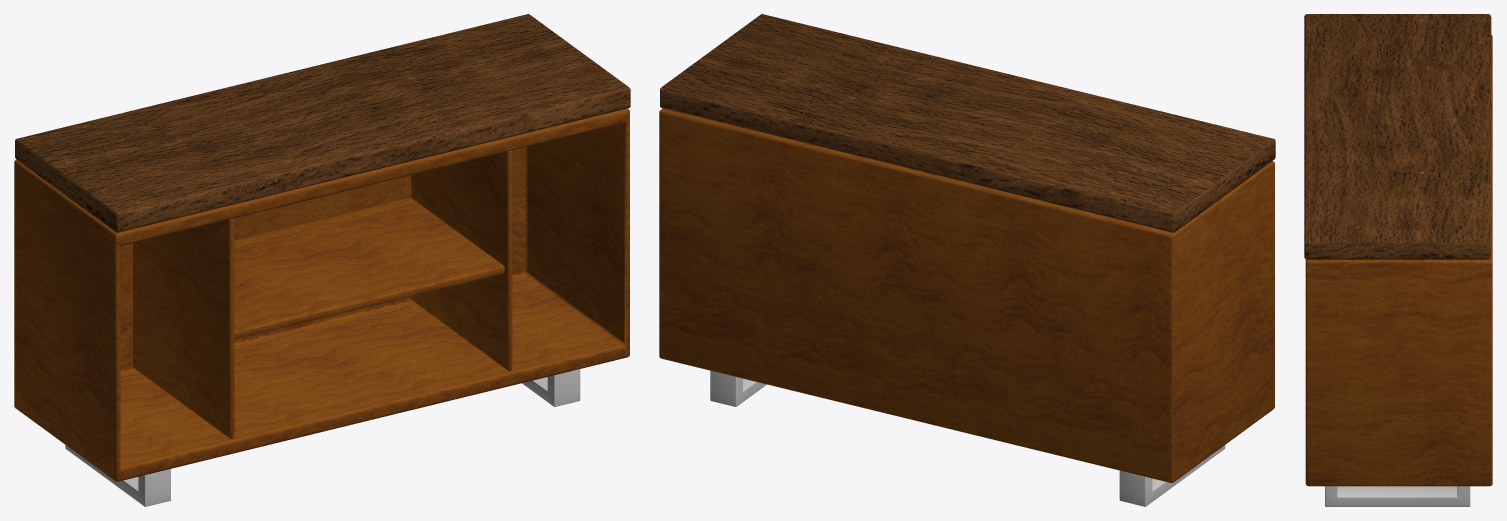
The model's file is TV table.fbx.
3 renders of one model, left to right at view 1: azimuth 30°, elevation 25°; view 2: azimuth 150°, elevation 25°; view 3: azimuth 270°, elevation 25°, orthographic. The views are drawn at different scales.
Visible parts, largest first — view 1: Cube, Cube.002, Cube.003, Cube.001; view 2: Cube, Cube.002, Cube.001; view 3: Cube.002, Cube, Cube.001.
Boxes of the visible parts, box(x1,y1,x2,y2) form: Cube: box(14, 108, 629, 481); Cube.002: box(15, 14, 630, 232); Cube.003: box(234, 198, 504, 339); Cube.001: box(65, 369, 580, 506); Cube: box(659, 108, 1274, 482); Cube.002: box(660, 14, 1275, 232); Cube.001: box(710, 370, 1225, 506); Cube.002: box(1304, 14, 1491, 259); Cube: box(1305, 35, 1492, 486); Cube.001: box(1325, 486, 1470, 506).
Size of the model in its own units: 130 by 75.26 by 45.37.
